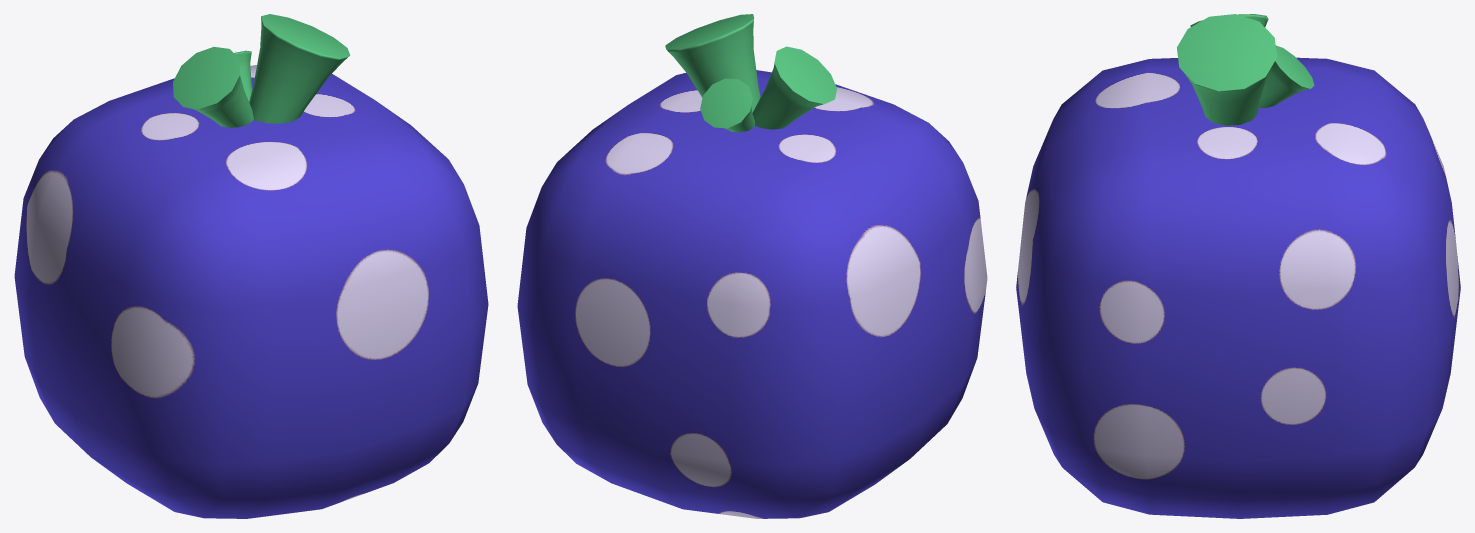
The model's file is BerryBlueNew.fbx.
3 renders of one model, left to right at view 1: azimuth 30°, elevation 25°; view 2: azimuth 150°, elevation 25°; view 3: azimuth 270°, elevation 25°, orthographic. The views are drawn at different scales.
Parts seen in each view (by area): view 1: pCube2; view 2: pCube2; view 3: pCube2.
Boxes of the visible parts, x1=… form: pCube2: x1=14, y1=14, x2=488, y2=518; pCube2: x1=517, y1=14, x2=987, y2=518; pCube2: x1=1016, y1=14, x2=1460, y2=518.
Bounding box in the file's own units: 1.97 × 2.28 × 1.96.
1 material, 1 textured.
